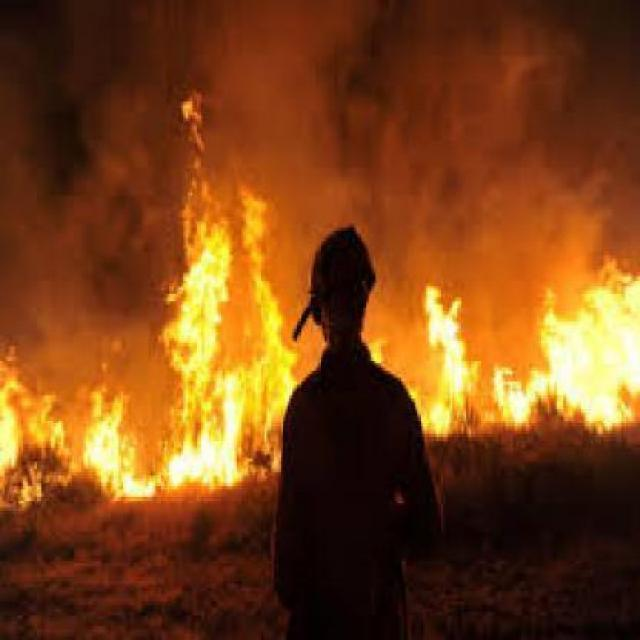Fire: (132, 162, 313, 505), (390, 262, 640, 448), (0, 322, 177, 534)
